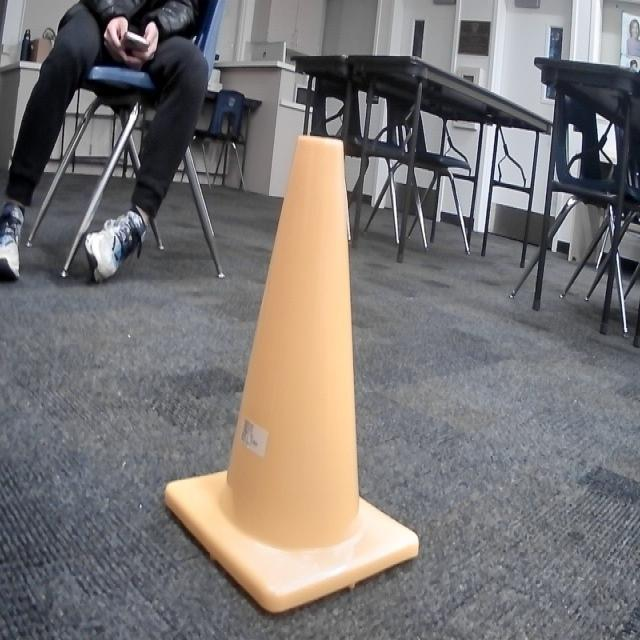cone: (159, 129, 425, 621)
